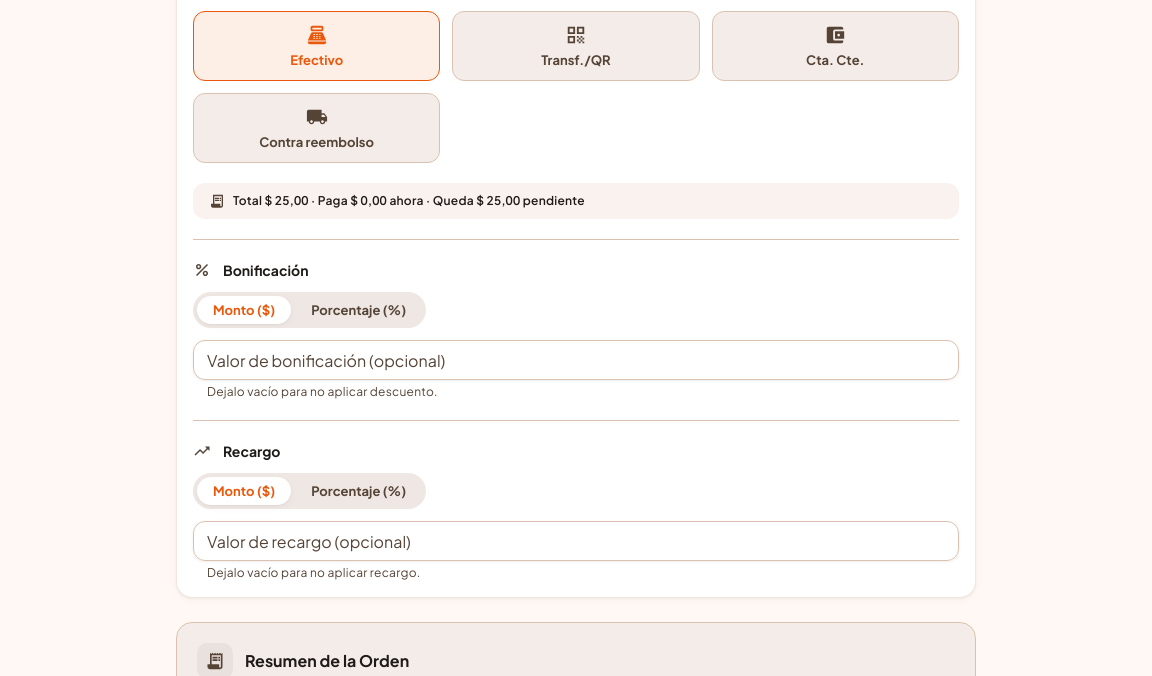
Scenario: NewOrderPage — order-level bonification › computes a fixed-amount discount live and submits it
The image size is (1152, 676).
Earlier steps of the test are not shown.
Later steps or results of the test are not shown.
(page scrolled)
In the number field labelled "Valor de bonificación (opcional)": [576, 360] box [193,340,959,380], type "5"
(page scrolled)
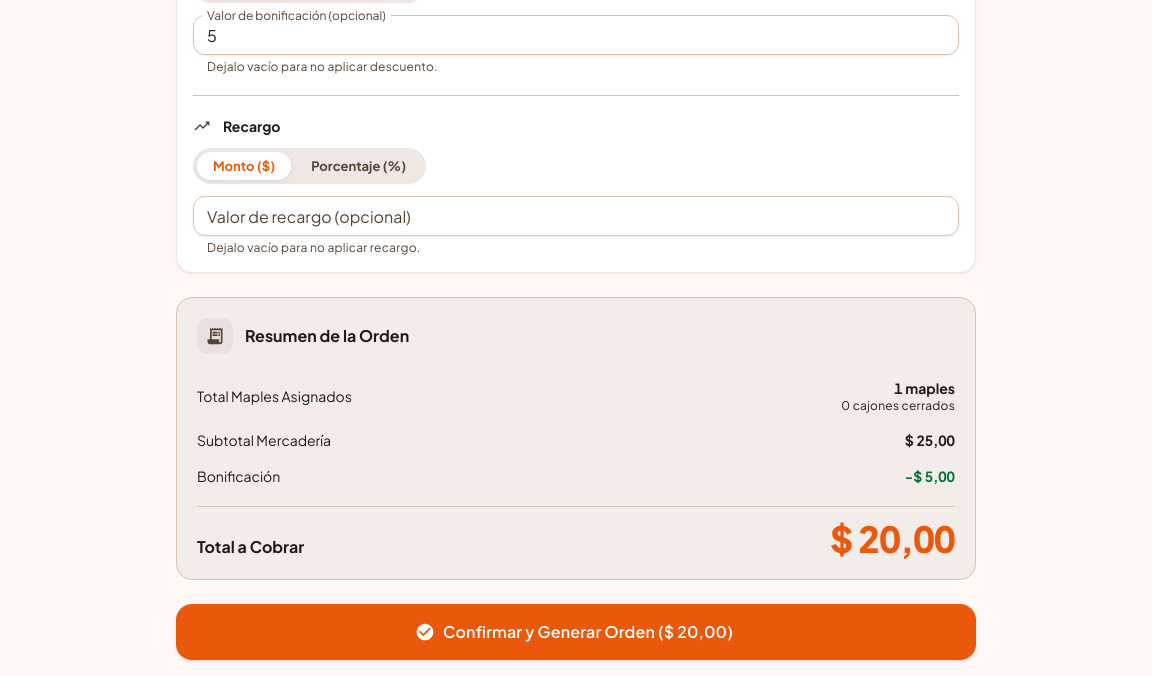
Expected: the heading "$ 20,00" is shown, [830,519,955,559]
